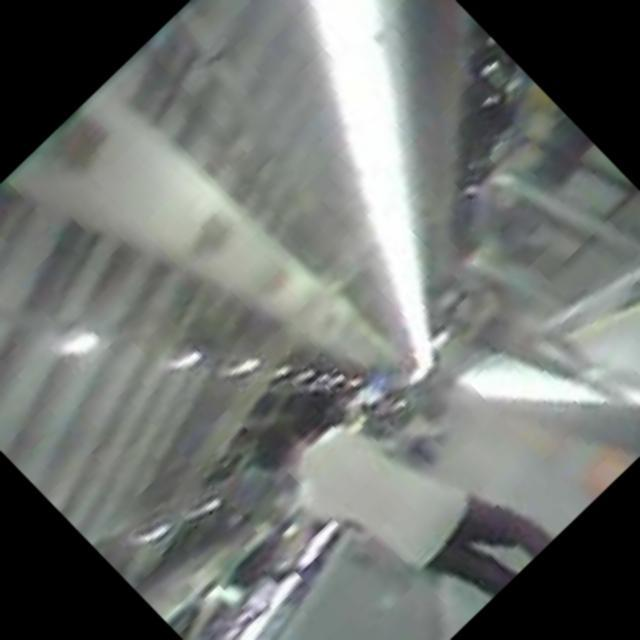person: (235, 335, 551, 640), (410, 228, 616, 435)
